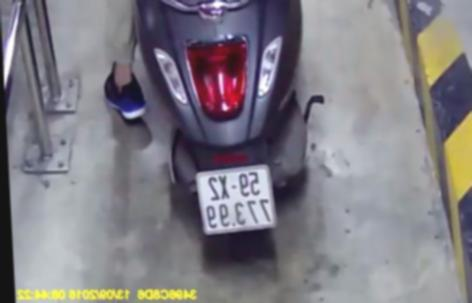License_Plate: (186, 163, 282, 234)
